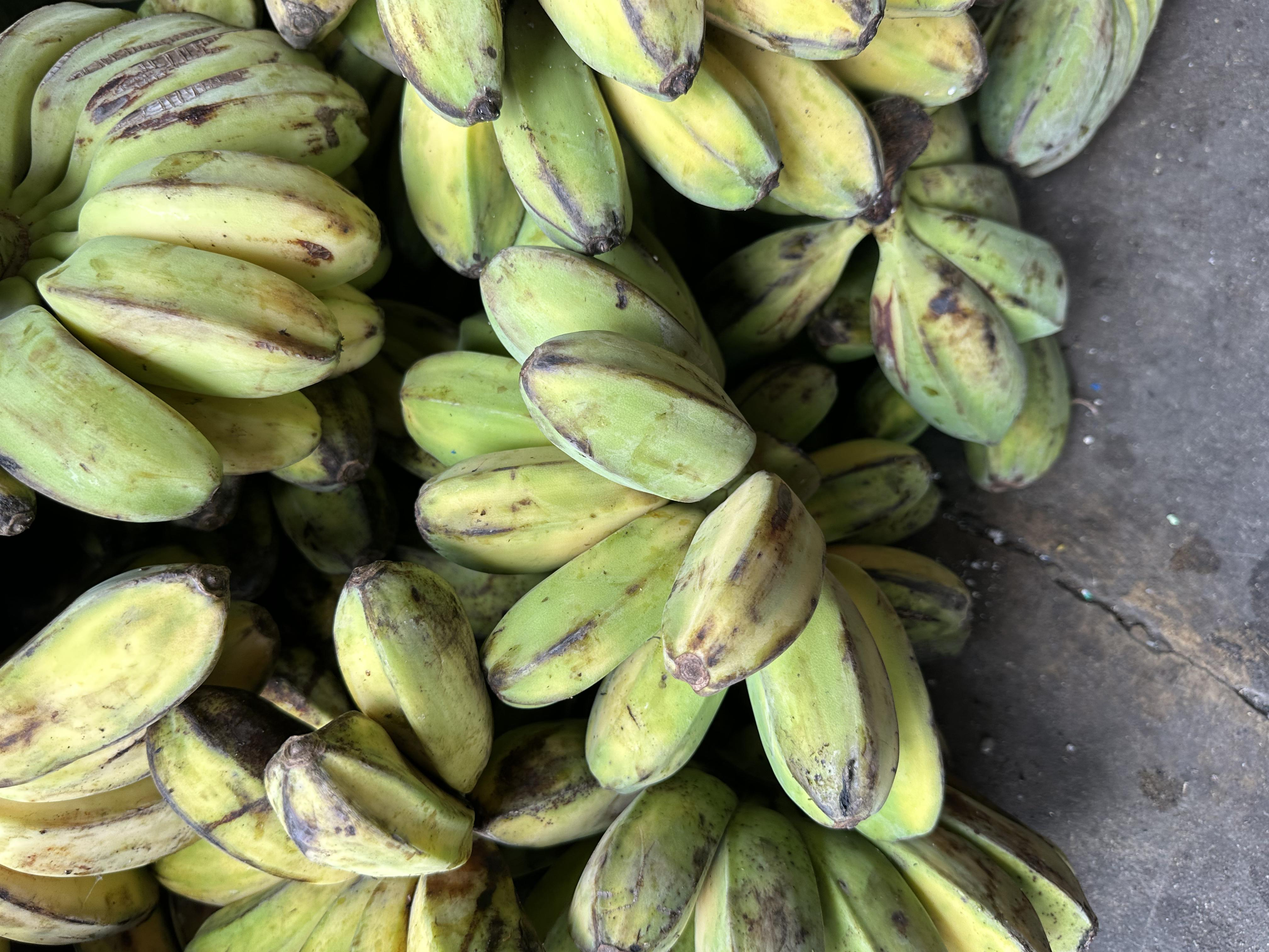underripe: (399, 211, 948, 844), (0, 0, 393, 543), (145, 561, 633, 952), (377, 0, 986, 277), (706, 98, 1068, 445), (525, 763, 1093, 952), (0, 564, 279, 945), (731, 358, 972, 660), (977, 0, 1162, 178)
